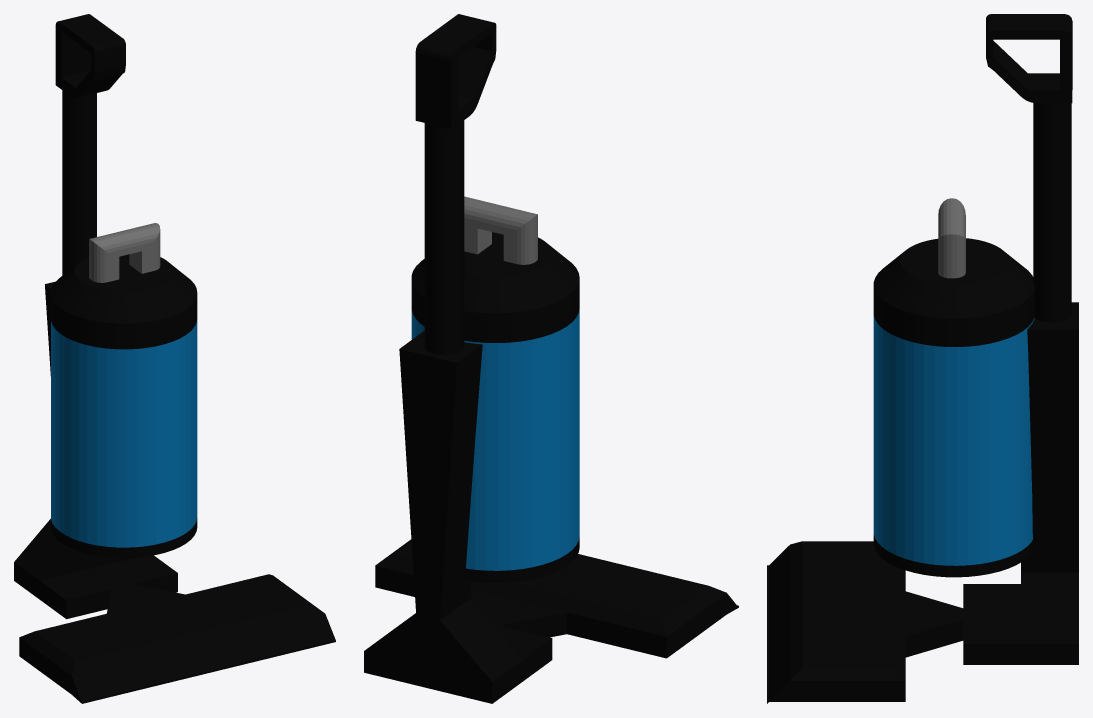
File: vacuum.fbx
3 renders of one model, left to right at view 1: azimuth 30°, elevation 25°; view 2: azimuth 150°, elevation 25°; view 3: azimuth 270°, elevation 25°, orthographic. The views are drawn at different scales.
Visible parts, largest first — view 1: Cube; view 2: Cube; view 3: Cube.
Part boxes in pixels (x1,y1,x2,y2): Cube: [14, 14, 335, 703]; Cube: [364, 14, 738, 703]; Cube: [767, 14, 1078, 703].
Size of the model in its own units: 560 by 1172 by 540.
